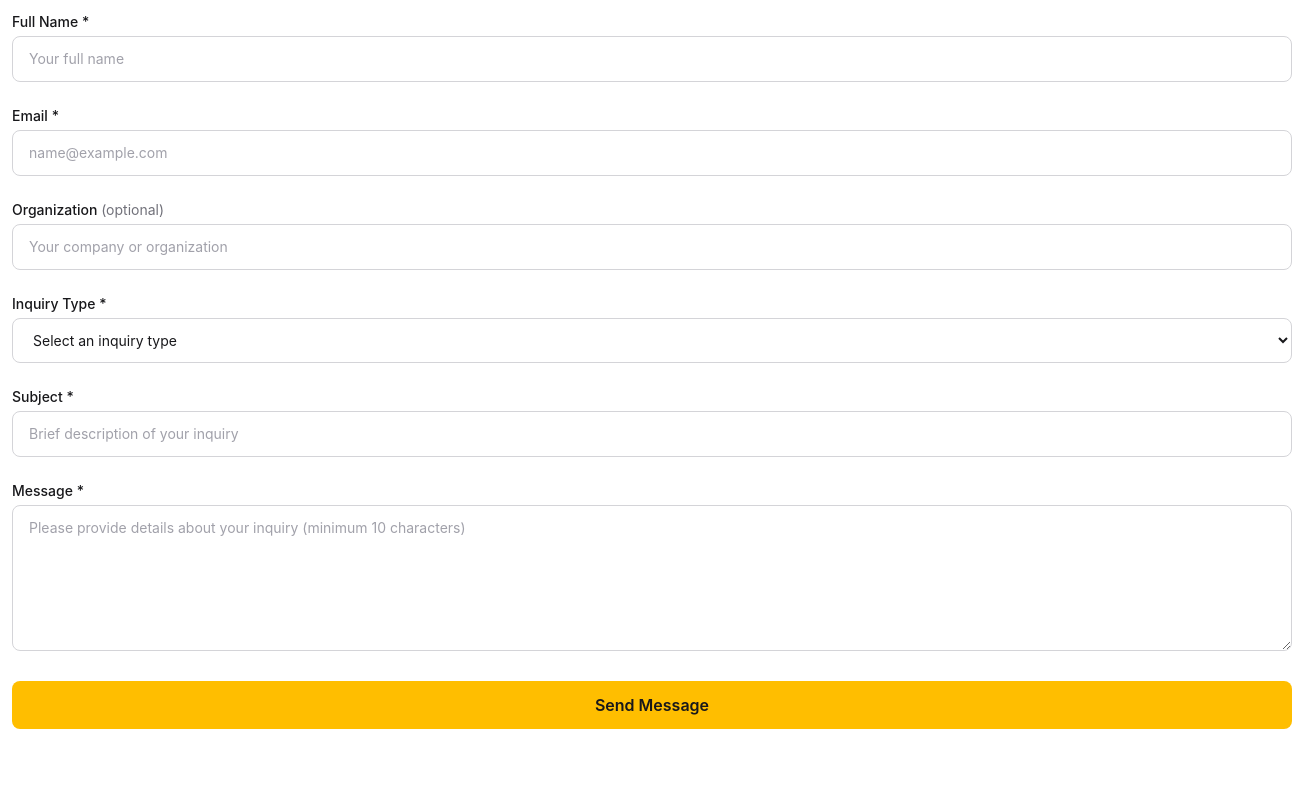
Test: submission › shows a helper text once an inquiry type is chosen
Select "General Inquiry" in the dropdown labelled "Inquiry Type *" at x=652, y=340, box x1=12 y1=318 x2=1292 y2=363
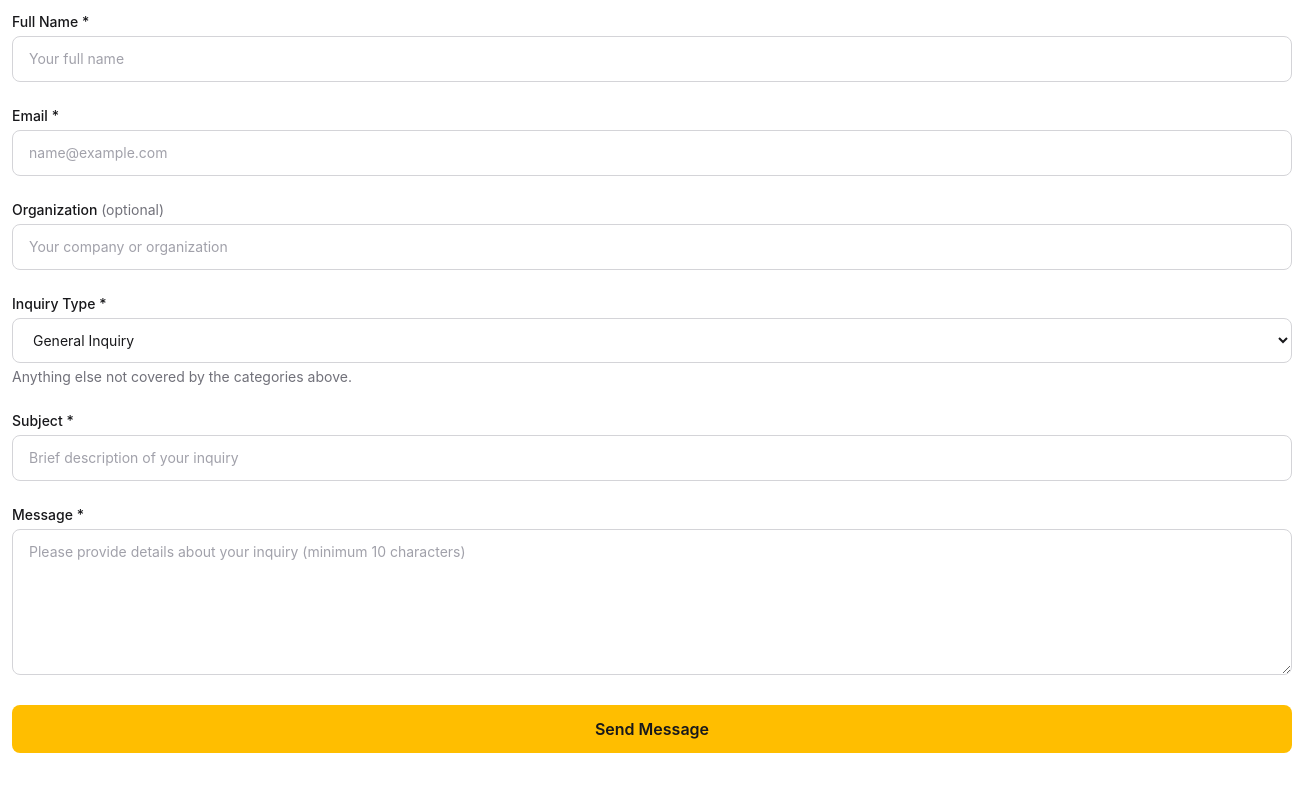
expect the text "Anything else not covered by the categories above." is shown: met, box x1=12 y1=368 x2=352 y2=385
